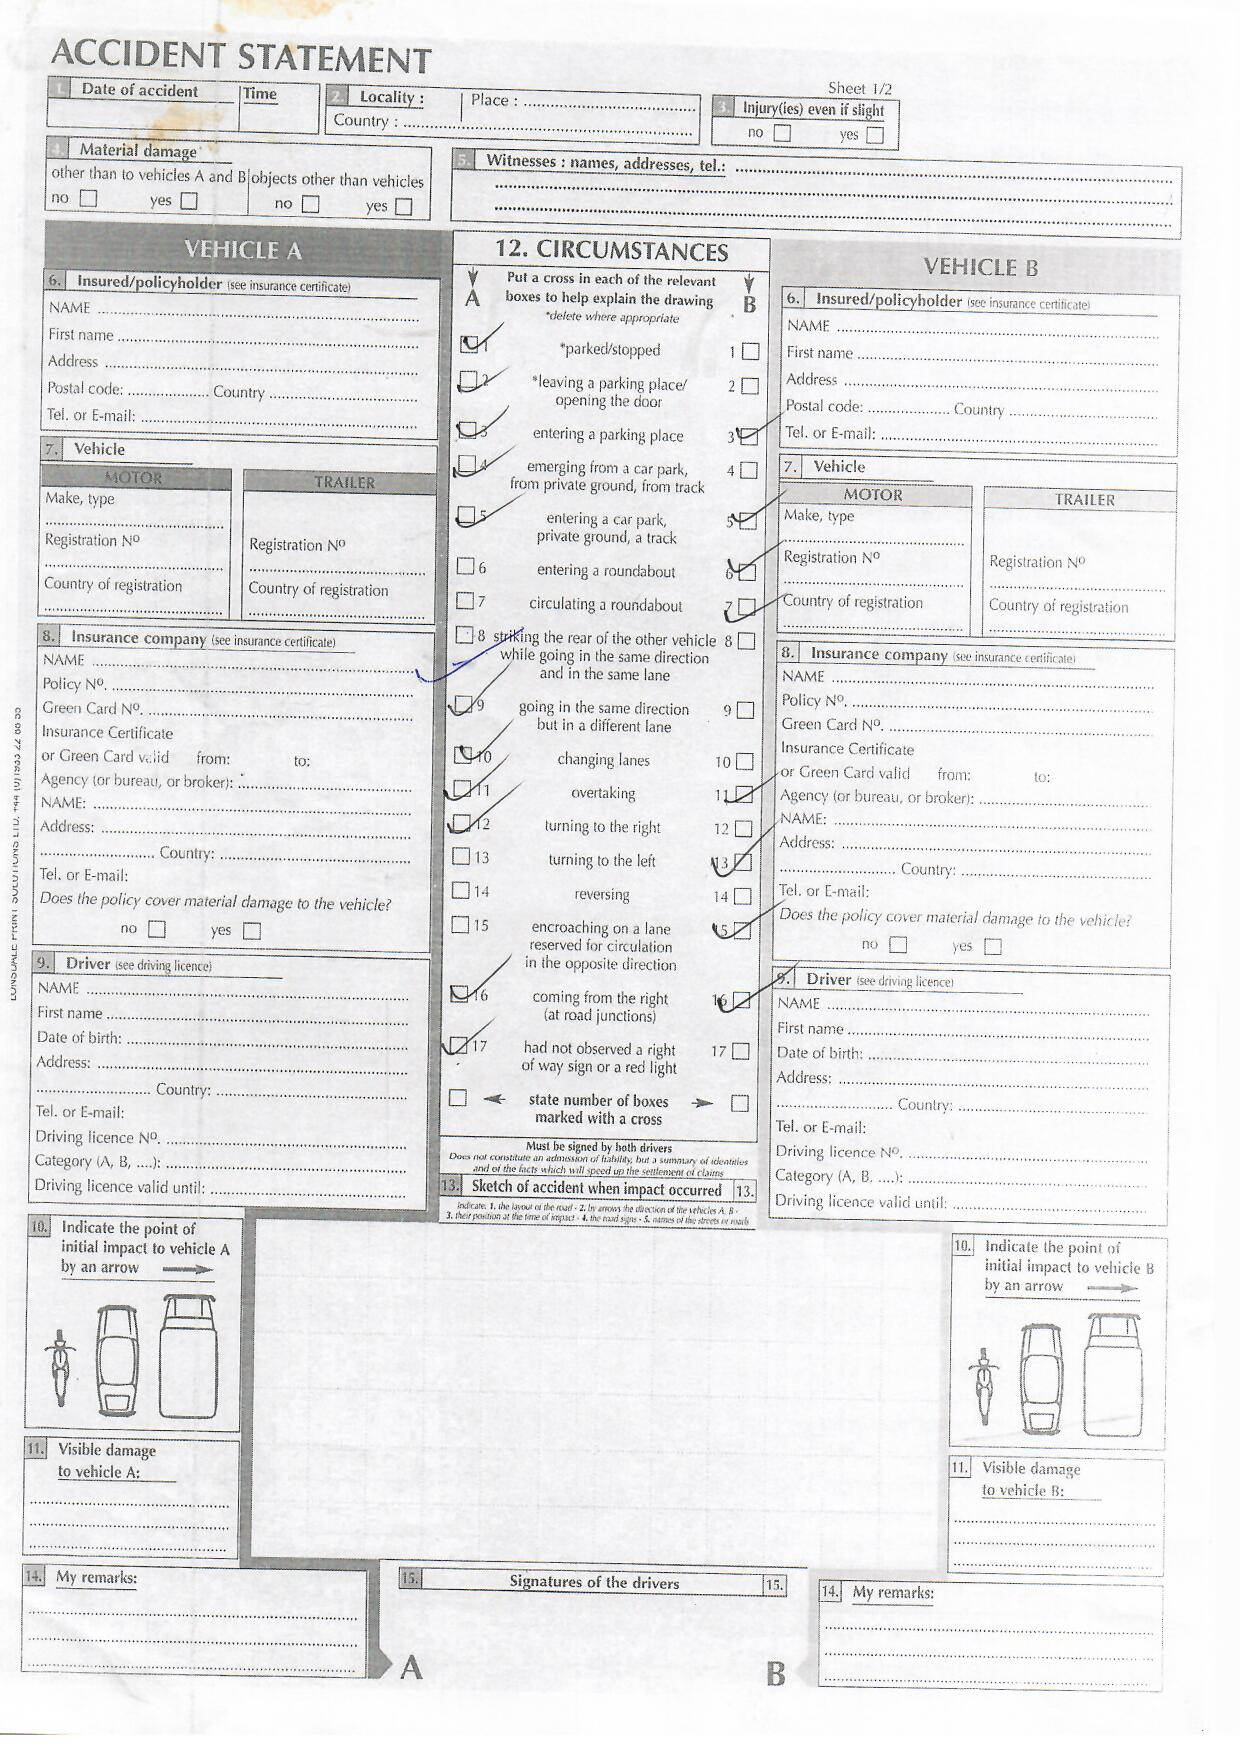a: (737, 423, 764, 450), (455, 450, 479, 478), (450, 690, 475, 715), (455, 501, 479, 528), (731, 850, 756, 876), (734, 558, 758, 584), (735, 509, 760, 534), (456, 332, 480, 356), (455, 417, 479, 442), (452, 744, 476, 768), (729, 988, 753, 1012), (730, 783, 756, 805), (455, 368, 479, 391), (446, 983, 470, 1005), (450, 812, 475, 834), (450, 777, 474, 799), (734, 596, 758, 617), (447, 1034, 468, 1056), (730, 918, 752, 941)
